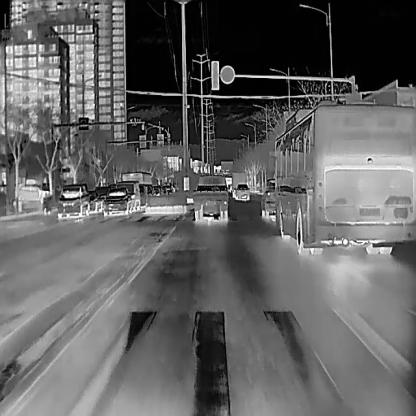bus: (268, 99, 414, 255), (122, 172, 150, 184), (224, 176, 232, 192)
car: (55, 183, 90, 218), (102, 185, 132, 216), (115, 180, 140, 210), (260, 178, 274, 219), (88, 185, 102, 214), (233, 183, 250, 200)
truck: (193, 172, 228, 220), (231, 172, 246, 196)
